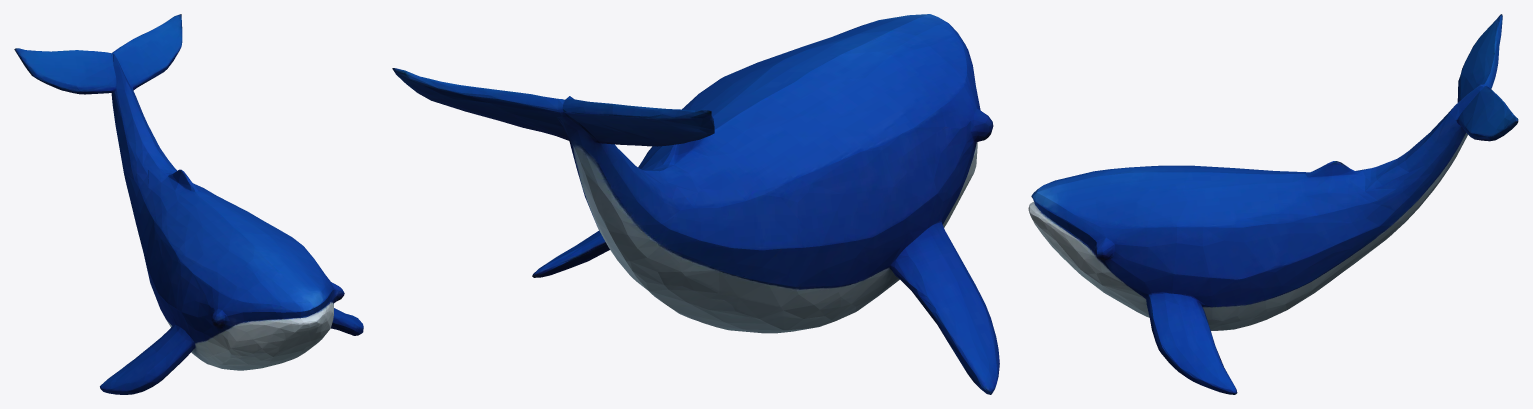
The model's file is whale.glb.
3 renders of one model, left to right at view 1: azimuth 30°, elevation 25°; view 2: azimuth 150°, elevation 25°; view 3: azimuth 270°, elevation 25°, orthographic. The views are drawn at different scales.
Parts seen in each view (by area): view 1: world; view 2: world; view 3: world.
Boxes of the visible parts, x1,y1,x2,y2 form: world: (14,14,363,394); world: (392,14,999,394); world: (1028,14,1518,394).
Size of the model in its own units: 0.6739 by 0.6063 by 1.
Materials: 1 (1 with a texture image).
